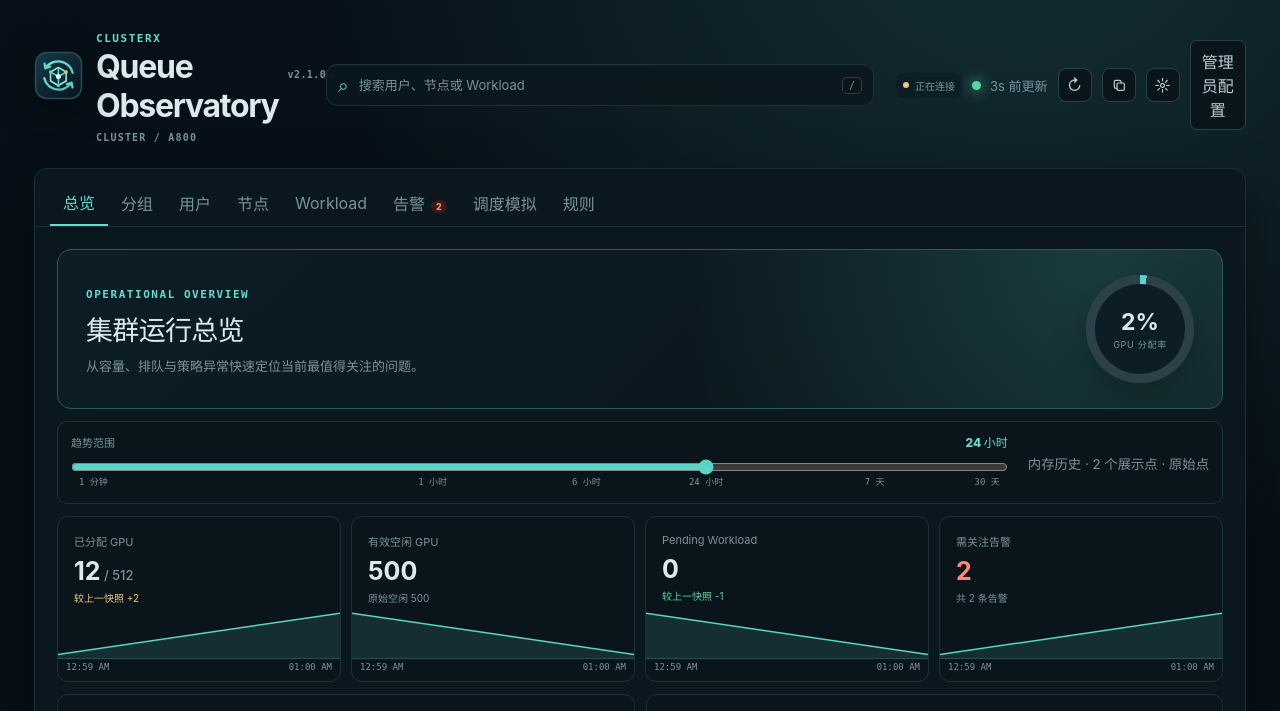
Scenario: Clusterx monitor dashboard › shows the current release notes from the version badge
expect the heading "Queue Observatory" is shown: met, box [96, 47, 278, 125]
Click the heading named "查看 v2.1.0 更新内容": (311,75) [288, 67, 335, 83]
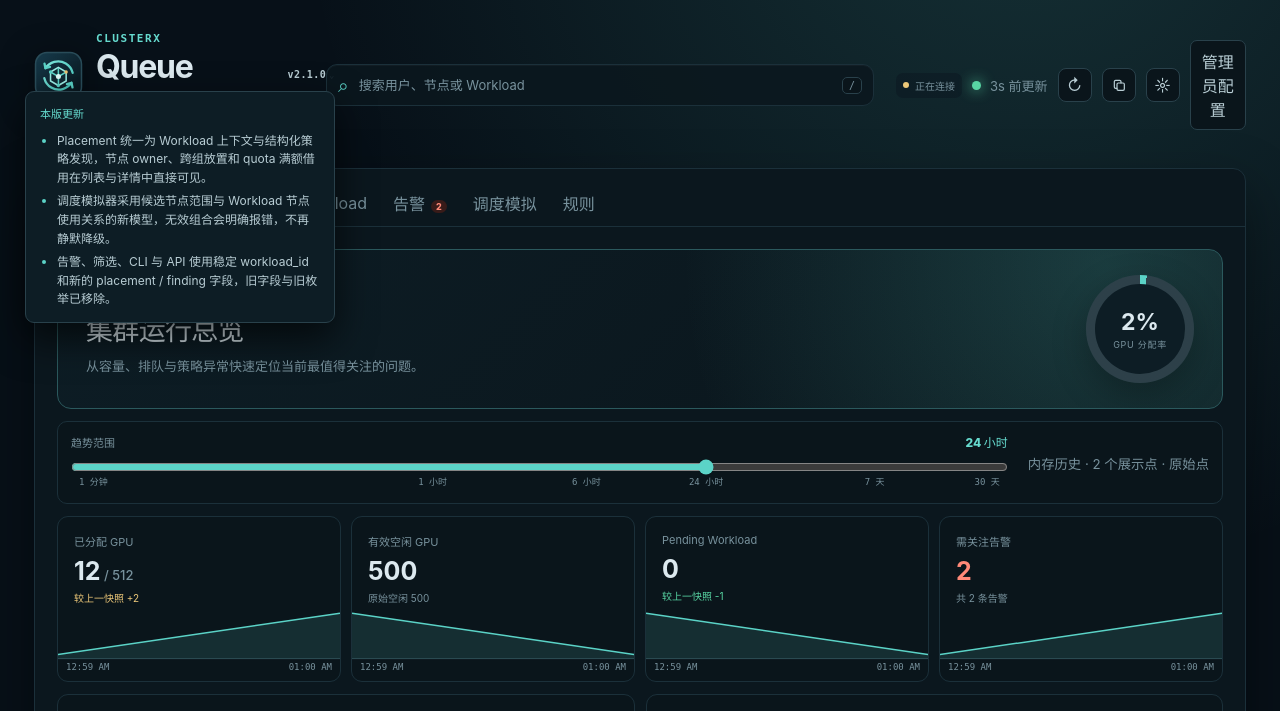
expect the text "本版更新" is shown: met, box [40, 107, 84, 121]
expect the list item "Placement 统一为 Workload 上下文" is shown: met, box [57, 133, 315, 185]
expect the list item "调度模拟器采用候选节点范围与 Workload 节点使用关系的新模型，无效组合会明确报错，不再静默降级。" is shown: met, box [57, 192, 320, 248]
